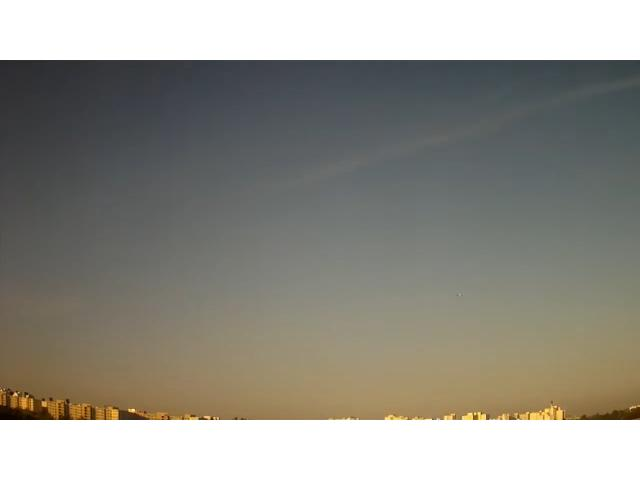Anti-Drone: (448, 287, 472, 301)
